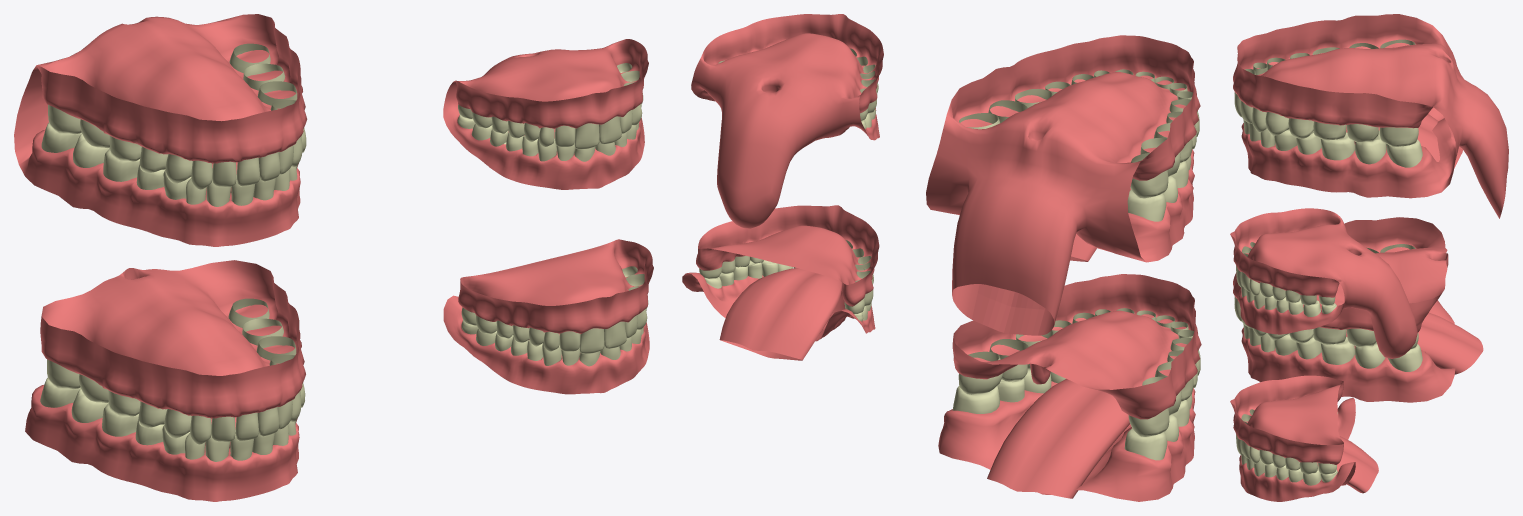
File: free_teeth_base_mesh.glb
The picture shows the model from 3 angles, left to right: view 1: azimuth 30°, elevation 25°; view 2: azimuth 150°, elevation 25°; view 3: azimuth 270°, elevation 25°; orthographic projection. The views are drawn at different scales.
Visible parts, largest first — view 1: Cube.005, Cube.001, Cube.014, Cube.007, Cube.003, Cube.009, Cube.002, Cube.006, Cube.004, Cube.008; view 2: Cube.005, Cube.014, Cube.001, Cube.007, Cube.010, Cube.003, Cube.011, Cube.002, Cube.006, Cube.004, Cube.009, Cube.008; view 3: Cube.005, Cube.014, Cube.007, Cube.001, Cube.003, Cube.006, Cube.009, Cube.008, Cube.004, Cube.010, Cube.002, Cube.011 (+1 smaller).
Part boxes in pixels (x1,y1,x2,y2): Cube.005: (14, 14, 307, 246); Cube.001: (40, 260, 305, 418); Cube.014: (443, 39, 648, 189); Cube.007: (458, 239, 653, 353); Cube.003: (25, 385, 299, 501); Cube.009: (443, 295, 649, 394); Cube.002: (47, 298, 305, 444); Cube.006: (48, 43, 306, 189); Cube.004: (40, 377, 296, 461); Cube.008: (41, 123, 297, 206); Cube.005: (926, 35, 1200, 335); Cube.014: (691, 14, 883, 228); Cube.001: (952, 274, 1201, 419); Cube.007: (696, 205, 879, 314); Cube.010: (987, 379, 1129, 498); Cube.003: (938, 381, 1195, 501); Cube.011: (719, 268, 841, 360); Cube.002: (958, 308, 1200, 436); Cube.006: (959, 69, 1199, 198); Cube.004: (952, 369, 1192, 460); Cube.009: (682, 260, 875, 341); Cube.008: (1127, 151, 1191, 221); Cube.005: (1233, 14, 1508, 218); Cube.014: (1230, 208, 1417, 358); Cube.007: (1230, 375, 1343, 474); Cube.001: (1233, 217, 1448, 332); Cube.003: (1241, 300, 1455, 402); Cube.006: (1234, 39, 1418, 147); Cube.009: (1239, 397, 1355, 501); Cube.008: (1243, 119, 1422, 167); Cube.004: (1243, 324, 1422, 371); Cube.010: (1346, 312, 1483, 374); Cube.002: (1234, 244, 1418, 349); Cube.011: (1317, 436, 1378, 493).
Size of the model in its own units: 1.61 by 1.1 by 0.8622.
